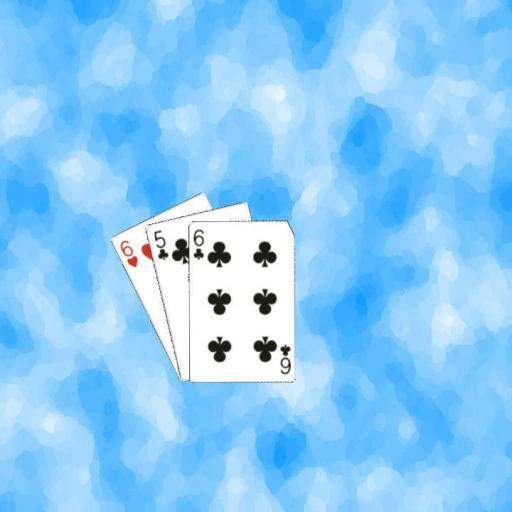card-corner: (116, 237, 140, 269), (150, 227, 170, 261), (277, 340, 292, 376), (190, 226, 205, 260)
